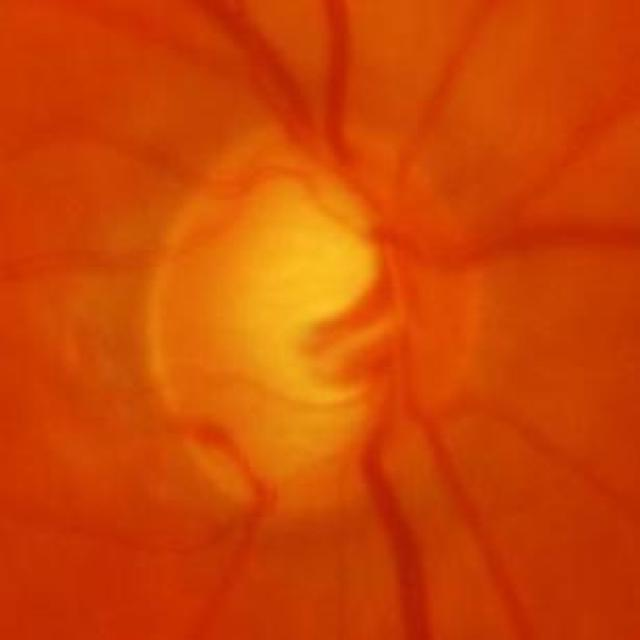OC: (230, 202, 402, 406)
OD: (144, 109, 490, 529)
